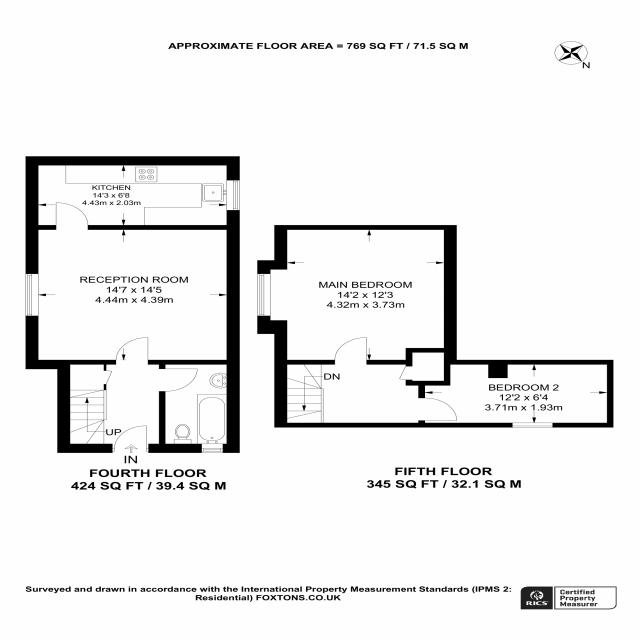DOOR: (54, 201, 91, 230), (114, 336, 150, 365), (333, 336, 369, 365), (158, 368, 199, 393), (113, 424, 148, 453), (417, 397, 459, 421)
ROOM: (25, 225, 240, 370), (257, 225, 457, 364), (25, 156, 240, 230), (418, 359, 614, 428)
WINDOW: (256, 273, 272, 317), (25, 273, 39, 317), (226, 179, 240, 211), (511, 422, 553, 428), (200, 443, 224, 453)
